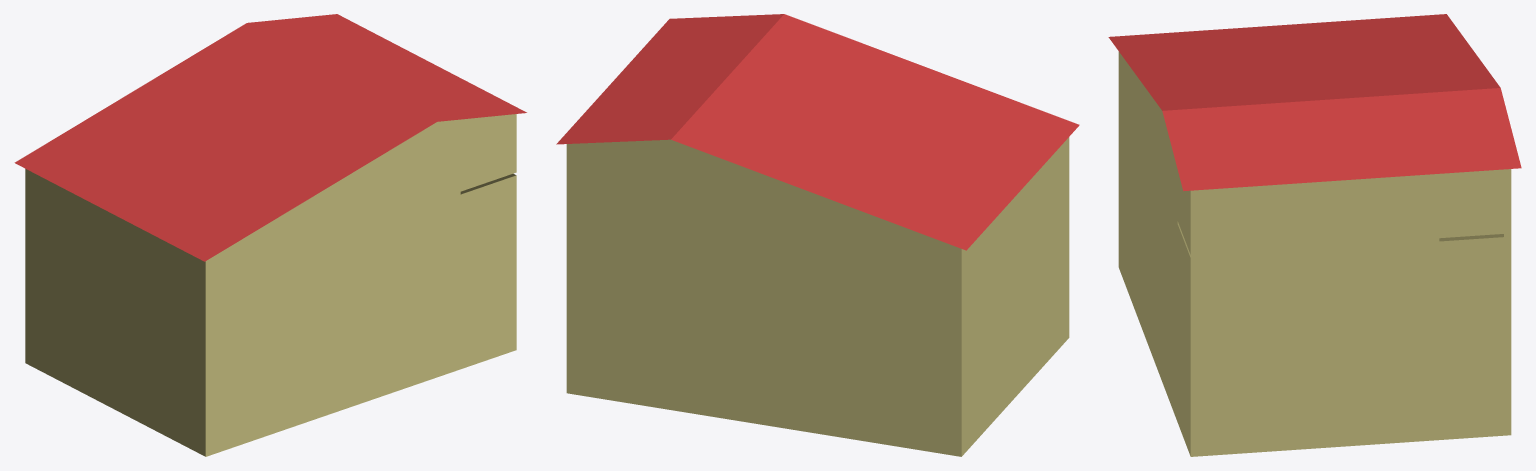
3 renders of one model, left to right at view 1: azimuth 30°, elevation 25°; view 2: azimuth 150°, elevation 25°; view 3: azimuth 270°, elevation 25°, orthographic. The views are drawn at different scales.
Bounding box in the file's own units: 14.55 × 11.54 × 9.1.
